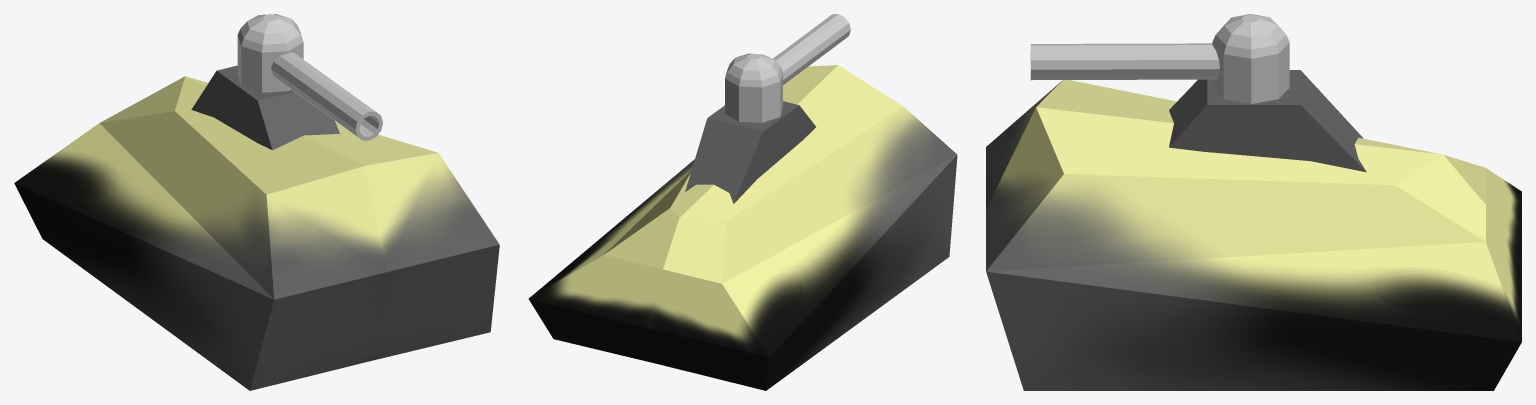
Rendered from tanque_base_copia.fbx.
The picture shows the model from 3 angles, left to right: view 1: azimuth 30°, elevation 25°; view 2: azimuth 150°, elevation 25°; view 3: azimuth 270°, elevation 25°; orthographic projection. The views are drawn at different scales.
Visible parts, largest first — view 1: tanque, cañon; view 2: tanque, cañon; view 3: tanque, cañon.
Part boxes in pixels (<box>): tanque: <box>14,65,499,390</box>; cañon: <box>237,14,382,140</box>; tanque: <box>528,65,957,390</box>; cañon: <box>725,14,850,122</box>; tanque: <box>986,70,1521,390</box>; cañon: <box>1030,14,1289,103</box>.
Bounding box in the file's own units: 133 × 126 × 200.
